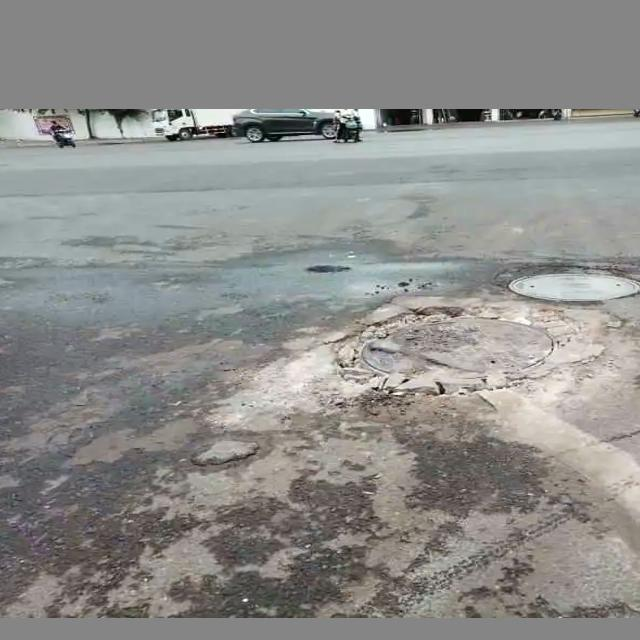circle: (265, 297, 599, 439)
